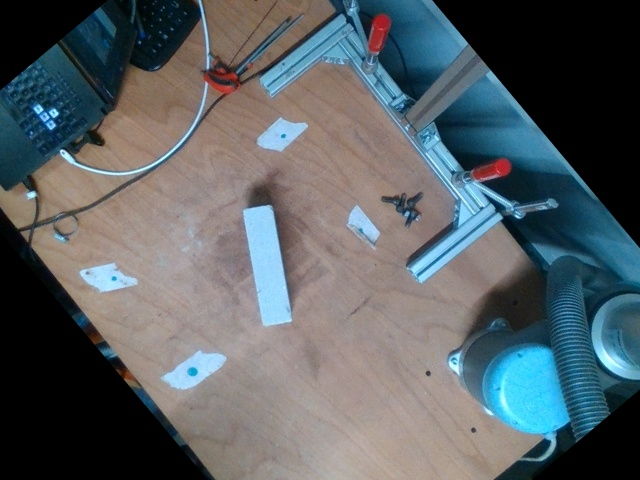brick-side: (243, 204, 291, 328)
